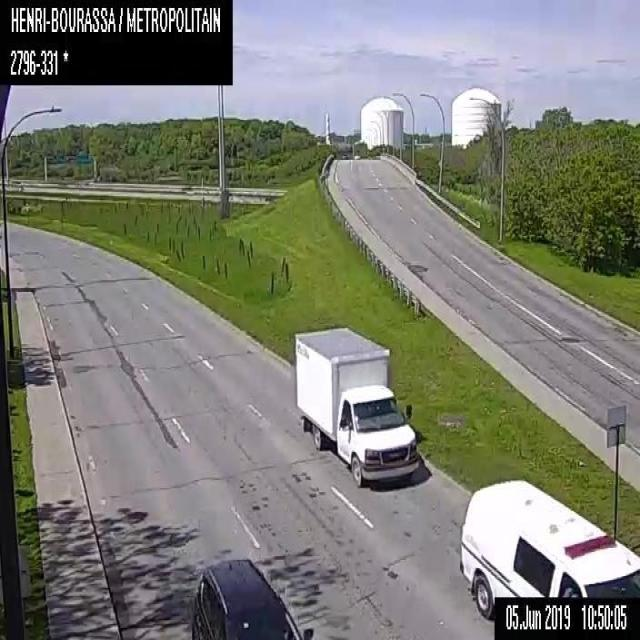vehicle: (458, 476, 639, 619), (291, 324, 422, 488), (187, 557, 314, 639)
